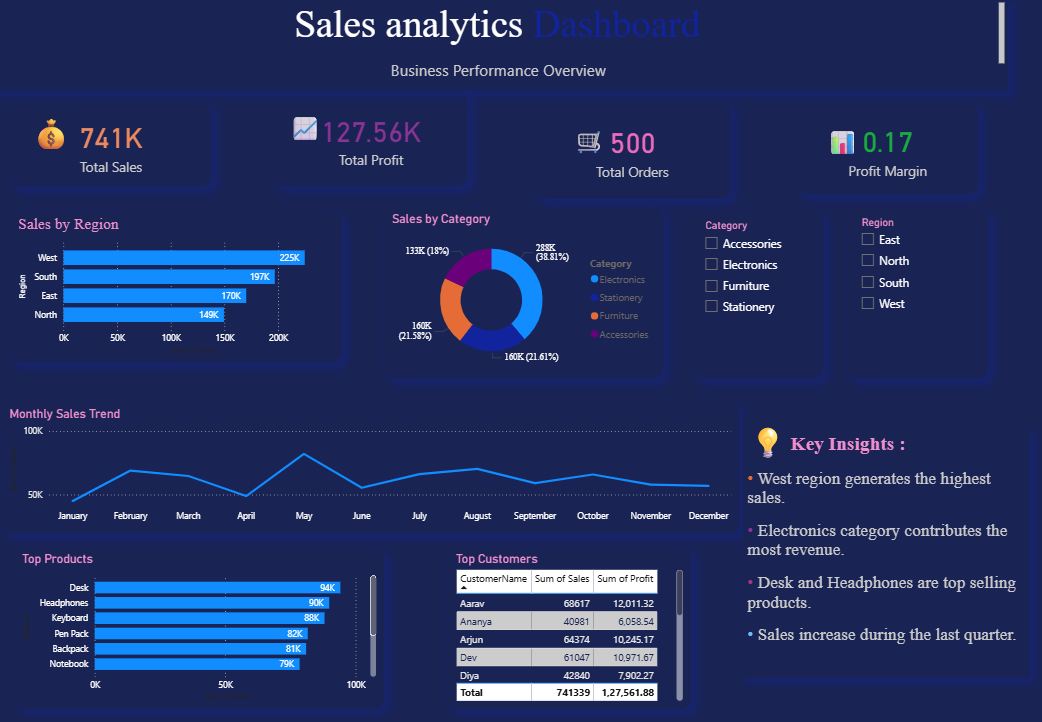

The dashboard page shown, as its layout file describes it:
{"tool":"powerbi","page":{"name":"Page 1","canvas":[1450,1000],"ordinal":0},"visuals":[{"type":"card","fields":{"Values":["powerbi_sales_dataset.Total Sales"]},"box":[23.3,143.3,276.7,115],"z":0},{"type":"card","fields":{"Values":["powerbi_sales_dataset.Total Profit"]},"box":[388.3,126.7,266.7,131.7],"z":1000},{"type":"card","fields":{"Values":["powerbi_sales_dataset.Total Orders"]},"box":[746.7,140,270,135],"z":2000},{"type":"card","fields":{"Values":["powerbi_sales_dataset.Profit Margin"]},"box":[1108.3,143.3,250,126.7],"z":3000},{"type":"clusteredBarChart","title":"Sales by Region","fields":{"Category":["powerbi_sales_dataset.Region"],"Y":["Sum(powerbi_sales_dataset.Sales)"]},"box":[23.3,293.3,456.7,208.3],"z":4000},{"type":"donutChart","title":"Sales by Category","fields":{"Category":["powerbi_sales_dataset.Category"],"Y":["Sum(powerbi_sales_dataset.Sales)"]},"box":[540,288.3,385,235],"z":5000},{"type":"lineChart","title":"Monthly Sales Trend","fields":{"Category":["powerbi_sales_dataset.Date.Variation.Date Hierarchy.Month"],"Y":["Sum(powerbi_sales_dataset.Sales)"]},"box":[12.5,557.5,1017.5,180],"z":6000},{"type":"clusteredBarChart","title":"Top Products","fields":{"Category":["powerbi_sales_dataset.Product"],"Y":["Sum(powerbi_sales_dataset.Sales)"]},"box":[30,757.5,510,222.5],"z":7000},{"type":"tableEx","title":"Top Customers","fields":{"Values":["powerbi_sales_dataset.CustomerName","Sum(powerbi_sales_dataset.Sales)","Sum(powerbi_sales_dataset.Profit)"]},"box":[627.5,757.5,335,222.5],"z":8000},{"type":"slicer","fields":{"Values":["powerbi_sales_dataset.Category"]},"box":[963.3,293.3,181.7,230],"z":9000},{"type":"slicer","fields":{"Values":["powerbi_sales_dataset.Region"]},"box":[1180,288.3,193.3,235],"z":10000},{"type":"textbox","box":[1035,592.5,395,342.5],"z":11000},{"type":"textbox","box":[44.1,150.8,62.7,74.6],"z":12000},{"type":"textbox","box":[403.3,151.7,48.3,60],"z":13000},{"type":"textbox","box":[794.9,169.5,47.5,61],"z":14000},{"type":"textbox","box":[1145,170,50,60],"z":15000},{"type":"textbox","box":[0,0,1400,125.9],"z":16000},{"type":"textbox","box":[1035,575,60,72.5],"z":17000}]}

Visuals, with their boxes in screenshot pixels (x1, y1, x2, y2), scaled from the page's 1450x1000 canvas onto the 1042x722 screenshot:
card - powerbi_sales_dataset.Total Sales: {"left": 17, "top": 103, "right": 216, "bottom": 186}
card - powerbi_sales_dataset.Total Profit: {"left": 279, "top": 91, "right": 471, "bottom": 187}
card - powerbi_sales_dataset.Total Orders: {"left": 537, "top": 101, "right": 731, "bottom": 199}
card - powerbi_sales_dataset.Profit Margin: {"left": 796, "top": 103, "right": 976, "bottom": 195}
"Sales by Region" clusteredBarChart: {"left": 17, "top": 212, "right": 345, "bottom": 362}
"Sales by Category" donutChart: {"left": 388, "top": 208, "right": 665, "bottom": 378}
"Monthly Sales Trend" lineChart: {"left": 9, "top": 403, "right": 740, "bottom": 532}
"Top Products" clusteredBarChart: {"left": 22, "top": 547, "right": 388, "bottom": 708}
"Top Customers" tableEx: {"left": 451, "top": 547, "right": 692, "bottom": 708}
slicer - powerbi_sales_dataset.Category: {"left": 692, "top": 212, "right": 823, "bottom": 378}
slicer - powerbi_sales_dataset.Region: {"left": 848, "top": 208, "right": 987, "bottom": 378}
textbox: {"left": 744, "top": 428, "right": 1028, "bottom": 675}
textbox: {"left": 32, "top": 109, "right": 77, "bottom": 163}
textbox: {"left": 290, "top": 110, "right": 325, "bottom": 153}
textbox: {"left": 571, "top": 122, "right": 605, "bottom": 166}
textbox: {"left": 823, "top": 123, "right": 859, "bottom": 166}
textbox: {"left": 0, "top": 0, "right": 1006, "bottom": 91}
textbox: {"left": 744, "top": 415, "right": 787, "bottom": 467}
